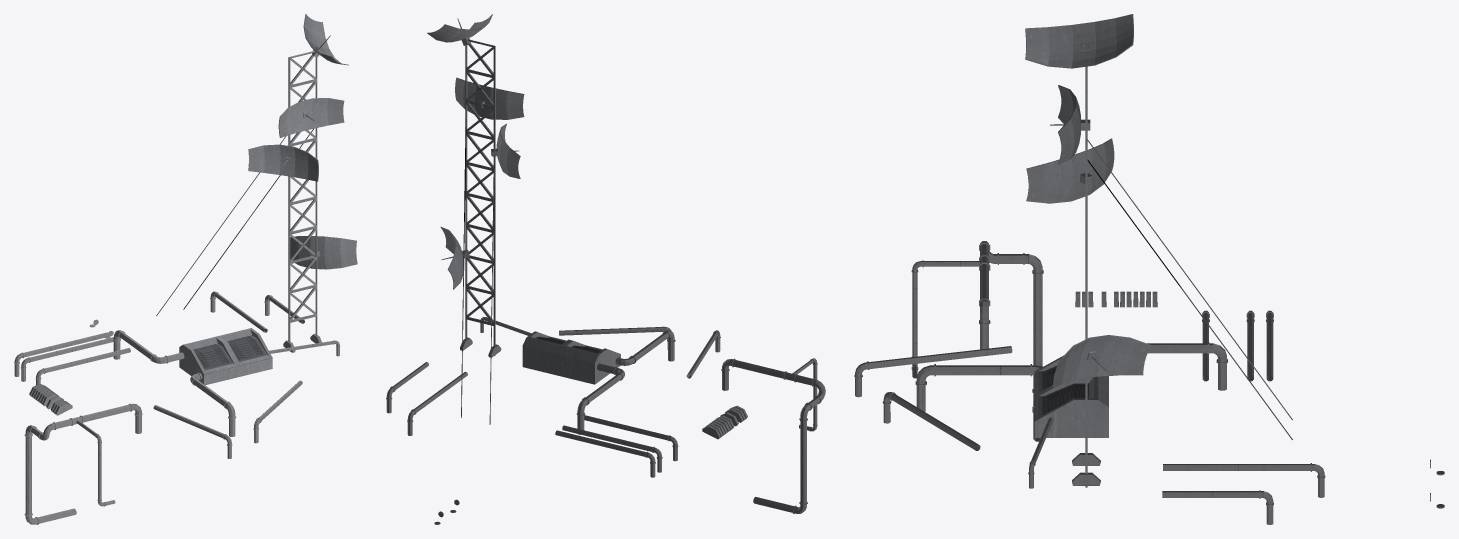
File: station_beacon.fbx
The picture shows the model from 3 angles, left to right: view 1: azimuth 30°, elevation 25°; view 2: azimuth 150°, elevation 25°; view 3: azimuth 270°, elevation 25°; orthographic projection. The views are drawn at different scales.
Visible parts, largest first — view 1: polySurface10; view 2: polySurface10; view 3: polySurface10.
Boxes of the visible parts, left/top/right/bottom form: polySurface10: left=14, top=14, right=357, bottom=524; polySurface10: left=386, top=14, right=825, bottom=524; polySurface10: left=854, top=14, right=1444, bottom=524.
Size of the model in its own units: 121 by 141 by 121.
1 material, 1 textured.
